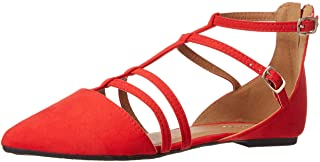shoes: (2, 1, 320, 159)
